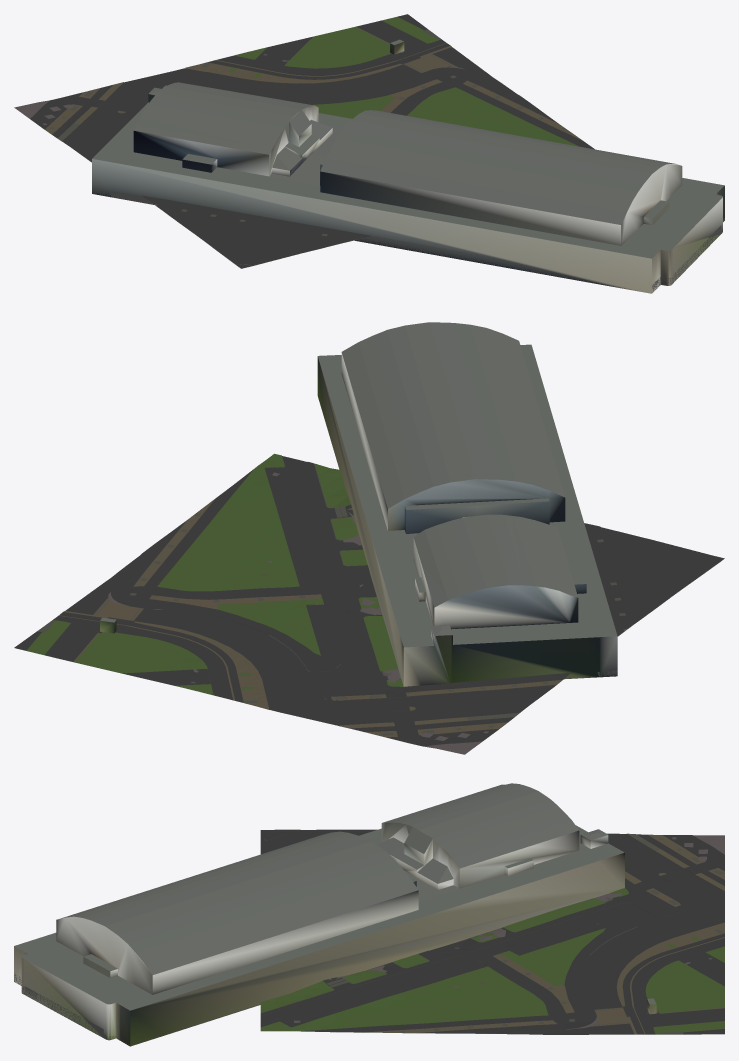
3 views of the same model, one above another, from view 1: azimuth 30°, elevation 25°; view 2: azimuth 150°, elevation 25°; view 3: azimuth 270°, elevation 25° (orthographic). The views are drawn at different scales.
Parts seen in each view (by area): view 1: c_m12_m13; view 2: c_m12_m13; view 3: c_m12_m13.
Part boxes in pixels (x1=…): c_m12_m13: x1=14, y1=14, x2=724, y2=293; c_m12_m13: x1=14, y1=322, x2=724, y2=754; c_m12_m13: x1=14, y1=783, x2=724, y2=1046.
Bounding box in the file's own units: 145 × 24.23 × 196.
